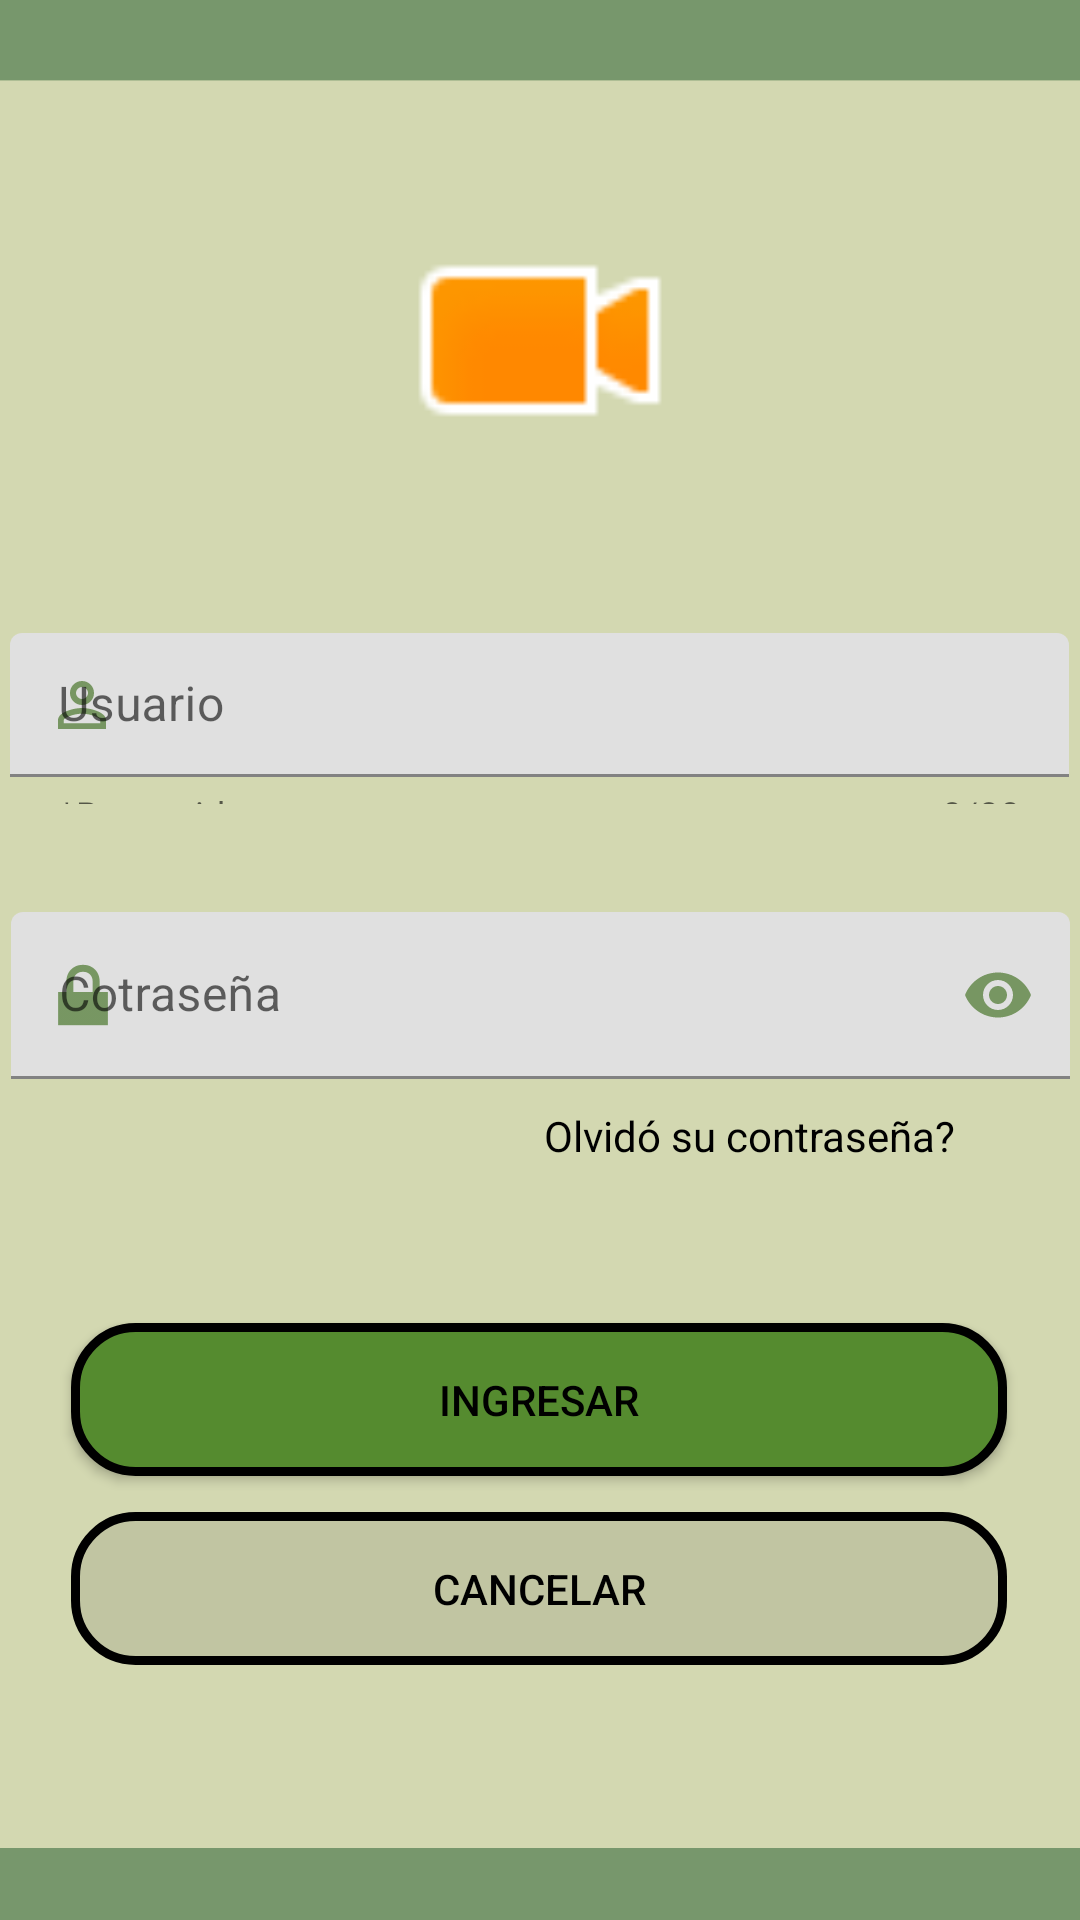

Named icons in this screenshot (1080px x 1920px) and their bounding boxes, bbox(x1, y1, x2, y2):
presence video away: bbox(420, 266, 660, 415)
